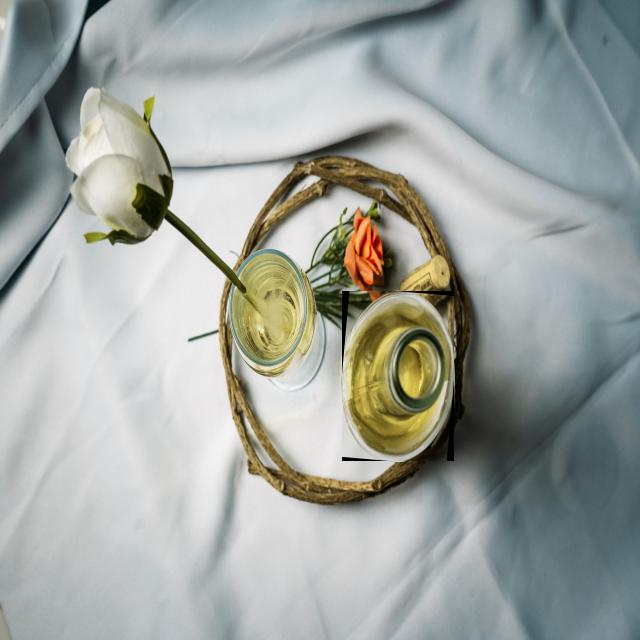Bottle: (342, 292, 454, 461)
